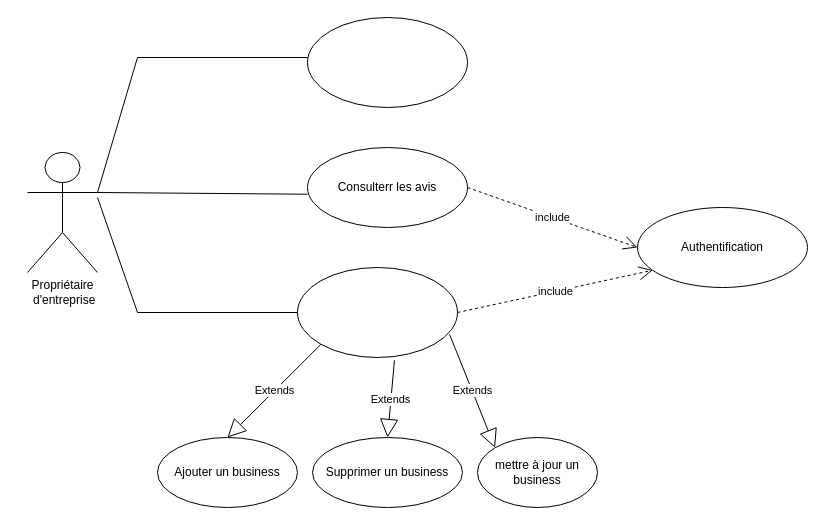
The diagram is 825 pixels wide and 525 high, and some of its shapes have lost their labels. The centre of each missing label's shape, as x and y in pixels:
Gérer les businesses: (x=377, y=312)
S'inscrire: (x=387, y=62)
